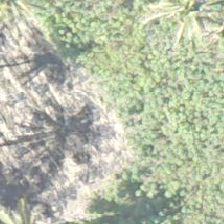Kelapa_Sawit: (149, 0, 223, 54), (0, 0, 54, 60), (0, 0, 53, 50)
